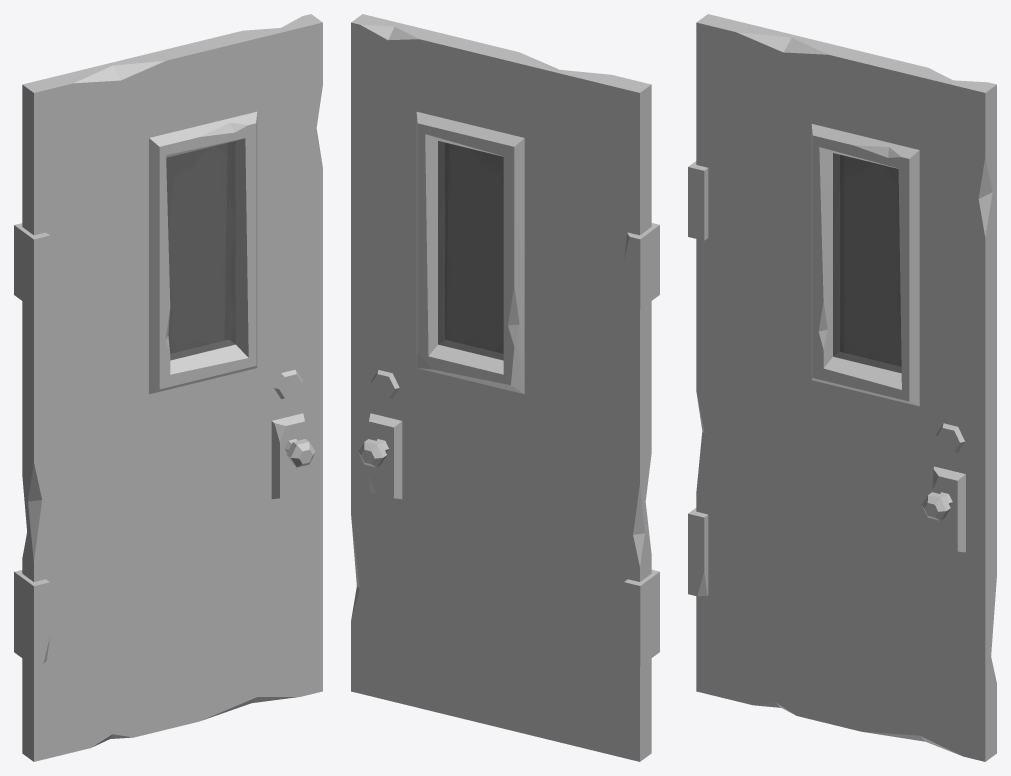
The model's file is SM_Bld_Door_Large_04.fbx.
3 views of the same model, side by side, from view 1: azimuth 30°, elevation 25°; view 2: azimuth 150°, elevation 25°; view 3: azimuth 330°, elevation 25° (orthographic).
Parts seen in each view (by area): view 1: SM_Bld_Door_Large_04; view 2: SM_Bld_Door_Large_04; view 3: SM_Bld_Door_Large_04.
Part boxes in pixels (x1=…): SM_Bld_Door_Large_04: x1=14, y1=14, x2=322, y2=761; SM_Bld_Door_Large_04: x1=351, y1=14, x2=659, y2=761; SM_Bld_Door_Large_04: x1=688, y1=14, x2=996, y2=761.
Size of the model in its own units: 113 by 247 by 32.76.
